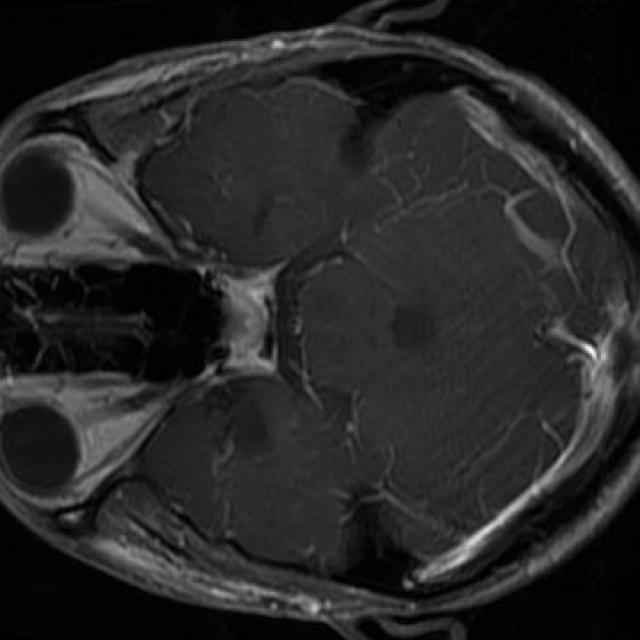glioma: (209, 387, 276, 462)
